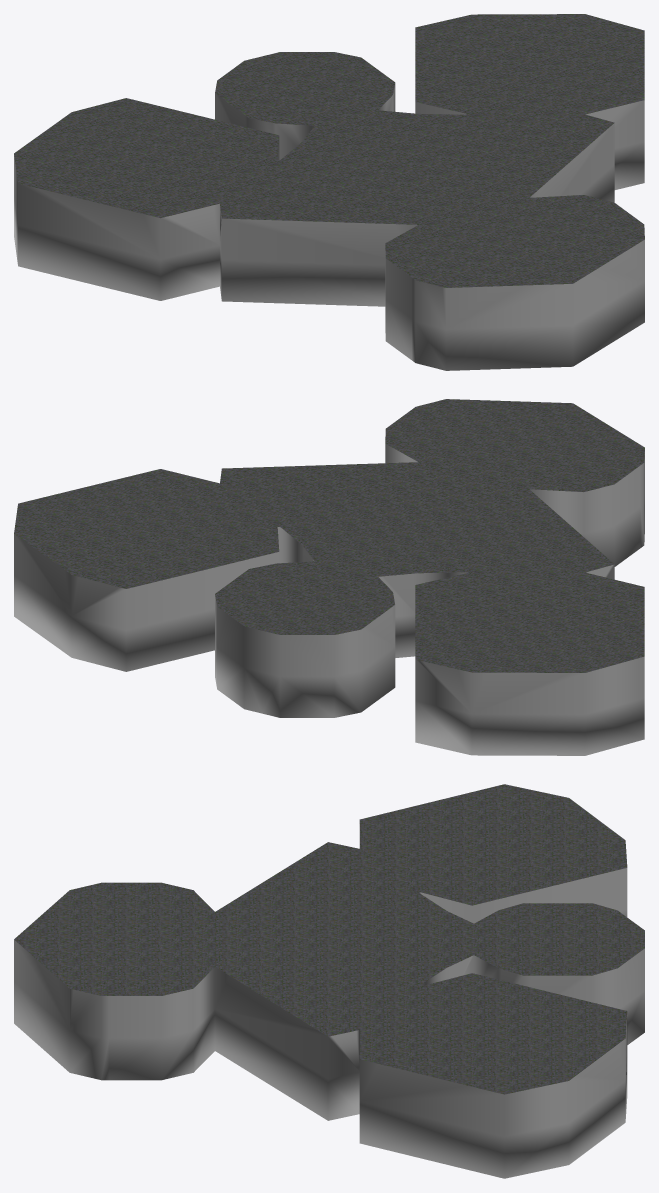
Rendered from Stage2.fbx.
3 views of the same model, one above another, from view 1: azimuth 30°, elevation 25°; view 2: azimuth 150°, elevation 25°; view 3: azimuth 270°, elevation 25° (orthographic).
Parts seen in each view (by area): view 1: Stage2; view 2: Stage2; view 3: Stage2.
Boxes of the visible parts, bbox=[...] form: Stage2: bbox=[14, 14, 644, 370]; Stage2: bbox=[14, 399, 644, 755]; Stage2: bbox=[14, 784, 644, 1178].
Size of the model in its own units: 468 by 59.12 by 402.
Materials: 2 (1 with a texture image).
